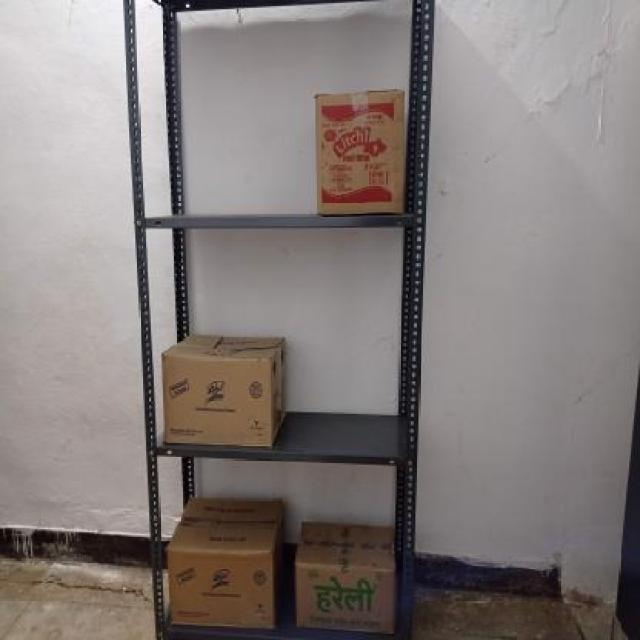box: (315, 88, 403, 211), (159, 355, 272, 450), (293, 563, 398, 640), (171, 551, 271, 631)
